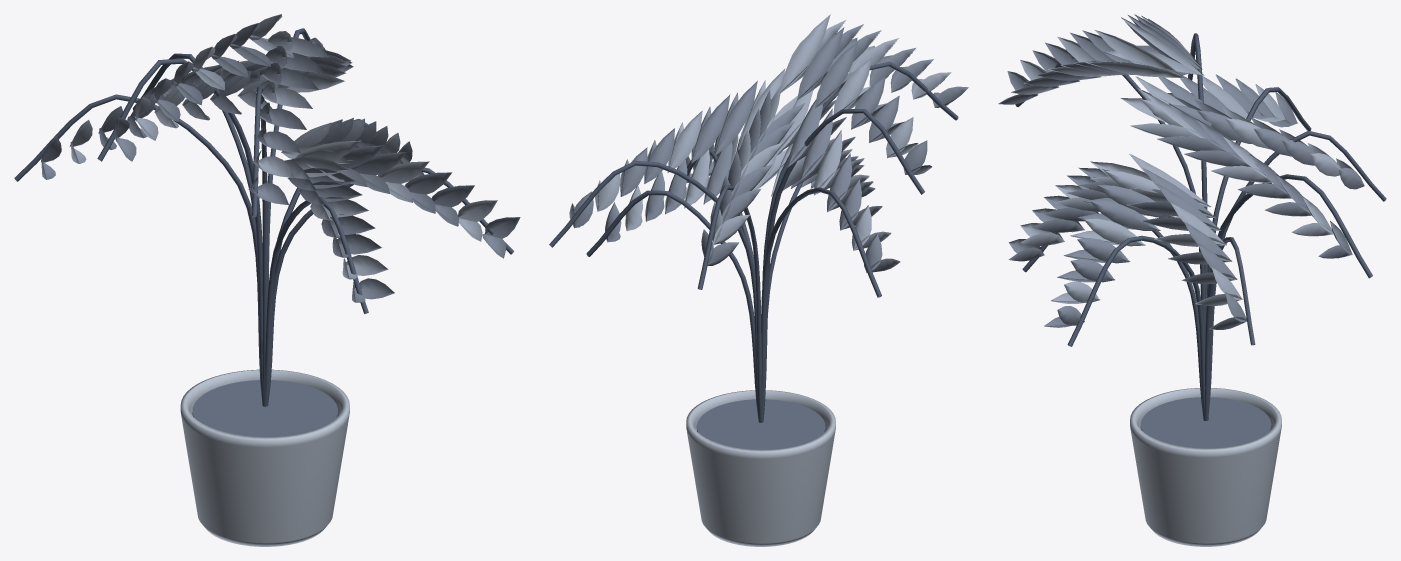
The model's file is 散尾葵.glb.
3 renders of one model, left to right at view 1: azimuth 30°, elevation 25°; view 2: azimuth 150°, elevation 25°; view 3: azimuth 270°, elevation 25°, orthographic. The views are drawn at different scales.
Visible parts, largest first — view 1: soft, body, light, dark, glass; view 2: soft, body, light, dark, glass; view 3: soft, light, body, dark, glass.
Boxes of the visible parts, x1,y1,x2,y2 form: soft: (41, 23, 520, 302); body: (180, 369, 349, 546); light: (69, 14, 497, 279); dark: (14, 28, 513, 406); glass: (192, 380, 337, 436); soft: (569, 24, 968, 272); body: (686, 390, 835, 546); light: (595, 14, 951, 250); dark: (549, 61, 958, 422); glass: (696, 399, 825, 449); soft: (998, 14, 1364, 329); light: (1011, 15, 1341, 306); body: (1130, 388, 1281, 546); dark: (1015, 33, 1386, 420); glass: (1140, 397, 1271, 447).
Bounding box in the file's own units: 1.08 × 1.55 × 1.11.
